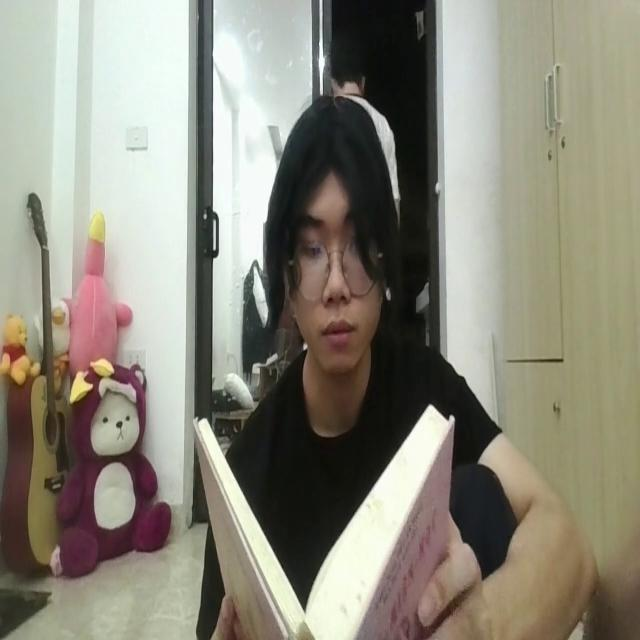book: (192, 406, 458, 640)
student: (220, 95, 598, 640)
